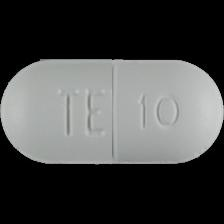45865-845: (0, 0, 224, 224)
